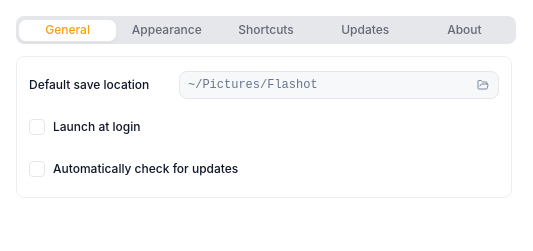
Test: SettingsRoute › shows editable shortcuts for area, board, screen, and active window capture
Click the tab "Shortcuts" at (266, 30), box [216,18,316,42]
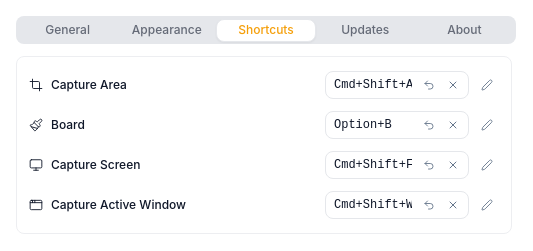
Expected: the text "Capture Area" is shown, [51,77,127,93]
Expected: the text "Board" is shown, [51,117,85,133]
Expected: the text "Capture Screen" is shown, [51,157,140,173]
